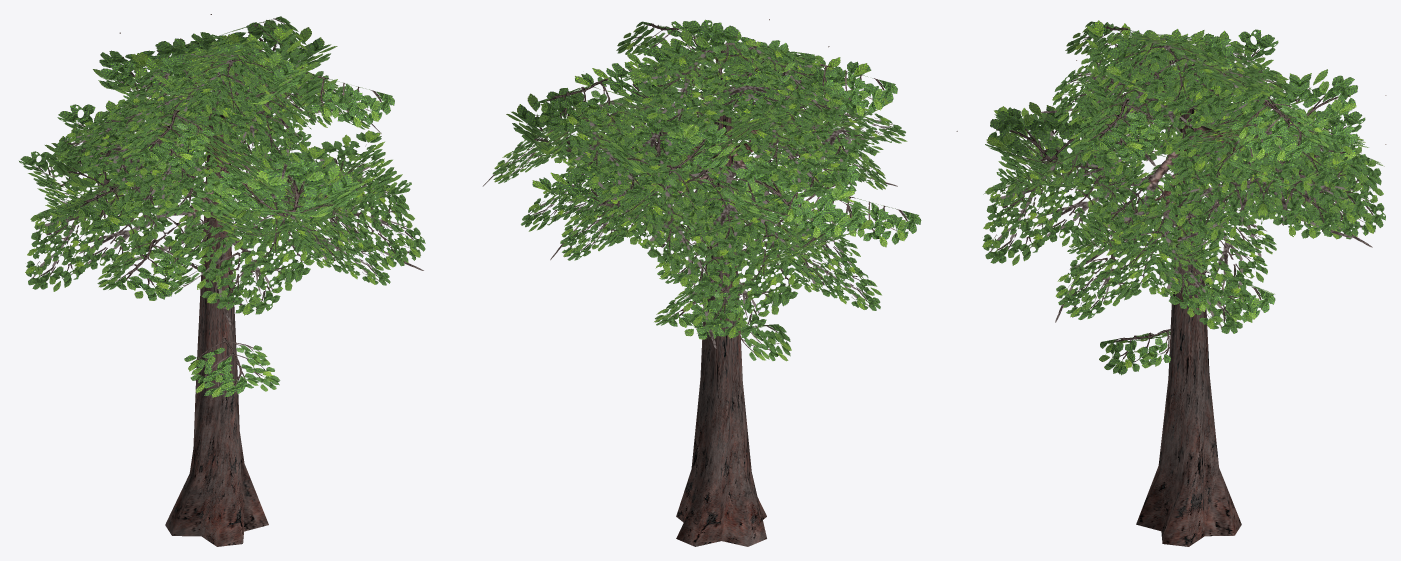
Rendered from teak.glb.
The picture shows the model from 3 angles, left to right: view 1: azimuth 30°, elevation 25°; view 2: azimuth 150°, elevation 25°; view 3: azimuth 270°, elevation 25°; orthographic projection.
Parts seen in each view (by area): view 1: tree_teak_1_leaves, tree_teak_1; view 2: tree_teak_1_leaves, tree_teak_1; view 3: tree_teak_1_leaves, tree_teak_1.
Part boxes in pixels (box(x1,y1,x2,y2)): tree_teak_1_leaves: box(19, 26, 425, 324); tree_teak_1: box(45, 14, 394, 546); tree_teak_1_leaves: box(482, 19, 907, 348); tree_teak_1: box(506, 19, 921, 546); tree_teak_1_leaves: box(982, 20, 1385, 333); tree_teak_1: box(956, 21, 1386, 546).
Bounding box in the file's own units: 25.66 × 30.9 × 25.11.
Materials: 2 (2 with a texture image).
